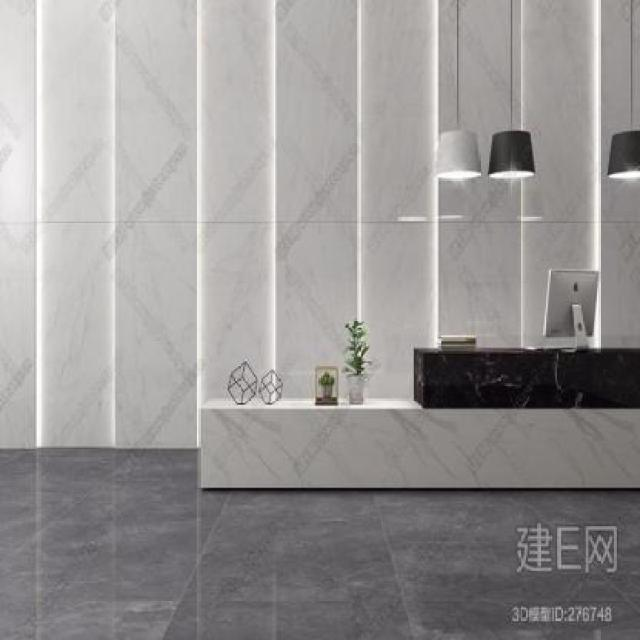frontdesk: (194, 336, 640, 497)
